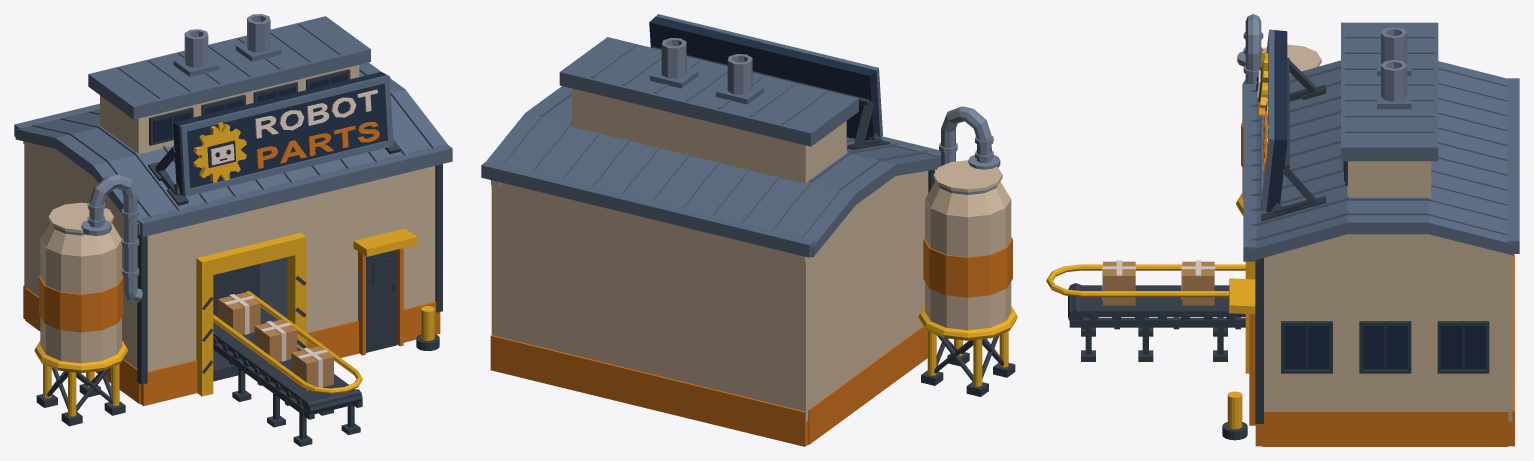
File: RobotPartsFactory_Stylized_v4.fbx
3 renders of one model, left to right at view 1: azimuth 30°, elevation 25°; view 2: azimuth 150°, elevation 25°; view 3: azimuth 270°, elevation 25°, orthographic. The views are drawn at different scales.
Visible parts, largest first — view 1: Building_Static_Mesh, Roof_Static_Mesh, RoofSign_Static_Mesh, Tank_Body_Static_Mesh, Main_Entrance_Static_Mesh, Tank_Supports_Static_Mesh, Service_Door_Static_Assembly, Tank_Pipe_Static_Mesh, Service_Door_Leaf_Assembly, Roof_Vents_Static_Mesh, Roof_Windows_Static_Mesh, Conveyor_Frame_Static_Mesh (+6 smaller); view 2: Building_Static_Mesh, Roof_Static_Mesh, Tank_Body_Static_Mesh, RoofSign_Static_Mesh, Tank_Supports_Static_Mesh, Roof_Vents_Static_Mesh, Tank_Pipe_Static_Mesh; view 3: Building_Static_Mesh, Roof_Static_Mesh, Side_Windows_Static_Mesh, RoofSign_Static_Mesh, Conveyor_Frame_Static_Mesh, Conveyor_Belt_Surface, Service_Door_Static_Assembly, Roof_Vents_Static_Mesh, Conveyor_Guides_Static_Mesh, Box_02_Animated_Mesh, Box_03_Animated_Mesh, Tank_Pipe_Static_Mesh (+2 smaller).
Part boxes in pixels (bbox=[...]): Building_Static_Mesh: bbox=[23, 141, 442, 406]; Roof_Static_Mesh: bbox=[14, 16, 452, 237]; RoofSign_Static_Mesh: bbox=[148, 72, 400, 205]; Tank_Body_Static_Mesh: bbox=[39, 202, 123, 363]; Main_Entrance_Static_Mesh: bbox=[196, 233, 306, 396]; Tank_Supports_Static_Mesh: bbox=[34, 340, 127, 426]; Service_Door_Static_Assembly: bbox=[353, 228, 439, 355]; Tank_Pipe_Static_Mesh: bbox=[81, 174, 142, 302]; Service_Door_Leaf_Assembly: bbox=[366, 249, 397, 352]; Roof_Vents_Static_Mesh: bbox=[173, 14, 281, 76]; Roof_Windows_Static_Mesh: bbox=[149, 69, 350, 145]; Conveyor_Frame_Static_Mesh: bbox=[213, 342, 362, 446]; Building_Static_Mesh: bbox=[490, 169, 935, 446]; Roof_Static_Mesh: bbox=[481, 37, 940, 257]; Tank_Body_Static_Mesh: bbox=[923, 160, 1012, 330]; RoofSign_Static_Mesh: bbox=[649, 14, 890, 149]; Tank_Supports_Static_Mesh: bbox=[918, 306, 1017, 396]; Roof_Vents_Static_Mesh: bbox=[650, 38, 764, 104]; Tank_Pipe_Static_Mesh: bbox=[939, 106, 1000, 169]; Building_Static_Mesh: bbox=[1255, 186, 1514, 446]; Roof_Static_Mesh: bbox=[1243, 22, 1519, 261]; Side_Windows_Static_Mesh: bbox=[1281, 321, 1489, 373]; RoofSign_Static_Mesh: bbox=[1256, 29, 1326, 221]; Conveyor_Frame_Static_Mesh: bbox=[1069, 317, 1245, 361]; Conveyor_Belt_Surface: bbox=[1069, 285, 1245, 316]; Service_Door_Static_Assembly: bbox=[1222, 278, 1255, 440]; Roof_Vents_Static_Mesh: bbox=[1377, 27, 1411, 109]; Conveyor_Guides_Static_Mesh: bbox=[1046, 264, 1245, 297]; Box_02_Animated_Mesh: bbox=[1181, 260, 1215, 305]; Box_03_Animated_Mesh: bbox=[1102, 260, 1135, 305]; Tank_Pipe_Static_Mesh: bbox=[1237, 14, 1266, 83].
Size of the model in its own units: 1113 by 802 by 1077.
